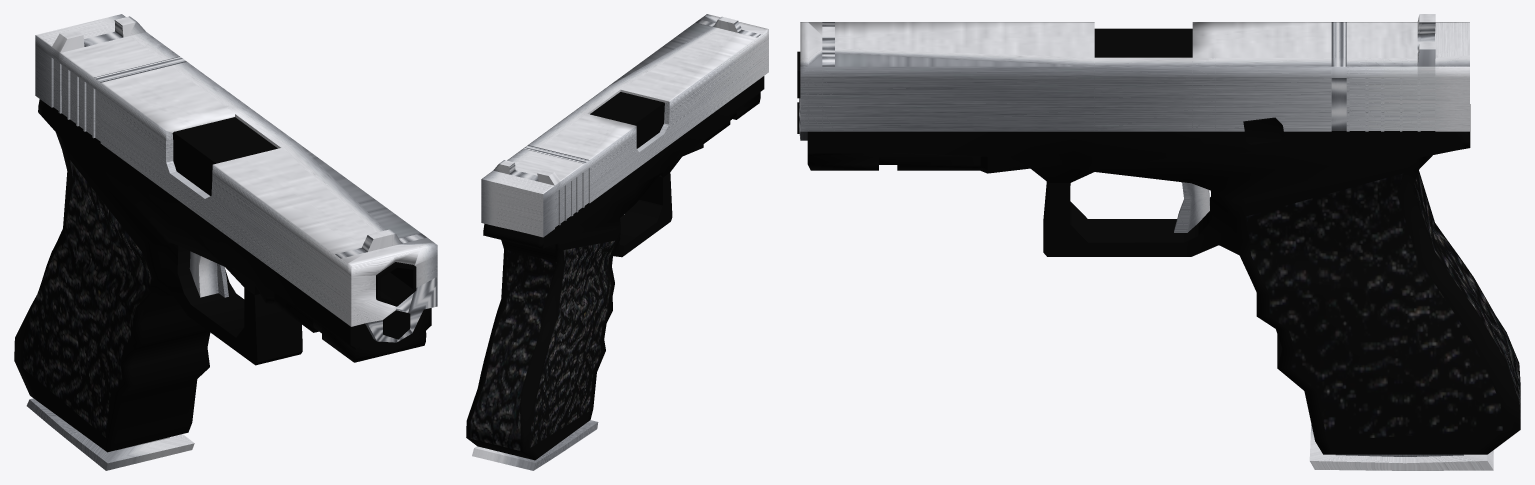
The model's file is glock.fbx.
3 renders of one model, left to right at view 1: azimuth 30°, elevation 25°; view 2: azimuth 150°, elevation 25°; view 3: azimuth 270°, elevation 25°, orthographic. The views are drawn at different scales.
Visible parts, largest first — view 1: pCube1, pCube2, pCube4, pCube3; view 2: pCube1, pCube2, pCube4; view 3: pCube1, pCube2, pCube4, pCube3.
Boxes of the visible parts, x1,y1,x2,y2 form: pCube1: (14,99,431,452); pCube2: (35,14,437,342); pCube4: (26,398,194,470); pCube3: (189,251,228,297); pCube1: (466,76,764,460); pCube2: (481,14,768,237); pCube4: (472,420,598,470); pCube1: (797,28,1520,454); pCube2: (799,14,1469,140); pCube4: (1309,424,1493,470); pCube3: (1174,182,1209,232).
Size of the model in its own units: 77.77 by 321 by 505.
Materials: 4 (4 with a texture image).
